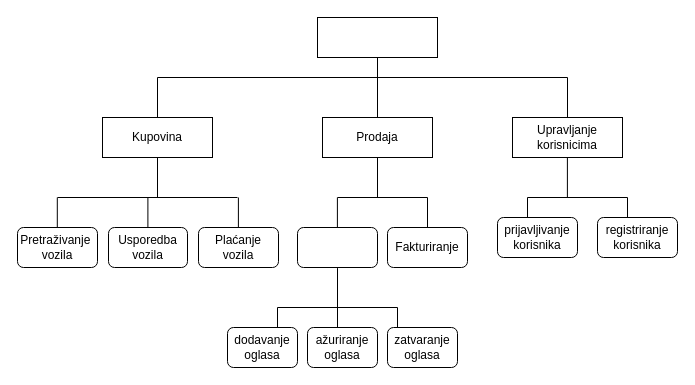
Some shapes in this 695 by 385 pixel diagram are drawn without their labels. The box of each missing label's shape, as (x1, y1, x2, y2) in pixels:
Prodavanje vozila: (296, 226, 378, 268)
Trgovina automobila: (316, 16, 438, 58)
